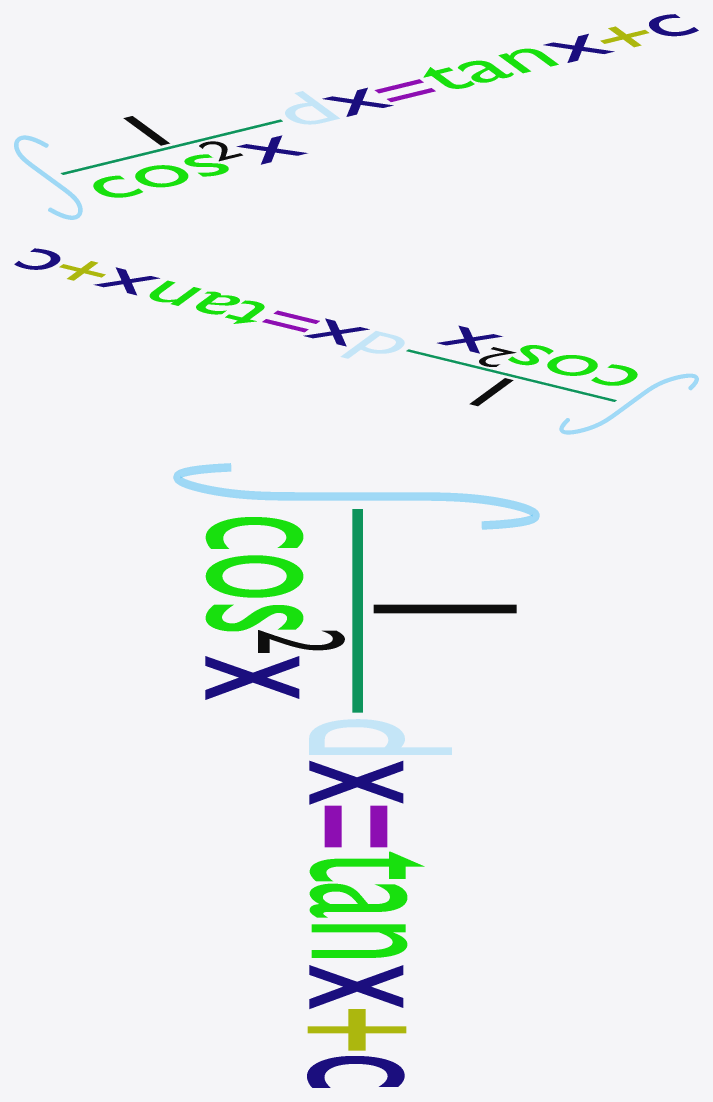
File: int1pecosla2x.glb
The picture shows the model from 3 angles, top to bottom: view 1: azimuth 30°, elevation 25°; view 2: azimuth 150°, elevation 25°; view 3: azimuth 270°, elevation 25°; orthographic projection. The views are drawn at different scales.
Parts seen in each view (by area): view 1: int din 1 pe cos la 2 x dx; view 2: int din 1 pe cos la 2 x dx; view 3: int din 1 pe cos la 2 x dx.
Part boxes in pixels (bbox=[...]): int din 1 pe cos la 2 x dx: bbox=[14, 14, 698, 219]; int din 1 pe cos la 2 x dx: bbox=[14, 248, 698, 434]; int din 1 pe cos la 2 x dx: bbox=[173, 463, 539, 1087].
Size of the model in its own units: 7.02 by 0.0401 by 1.75.
